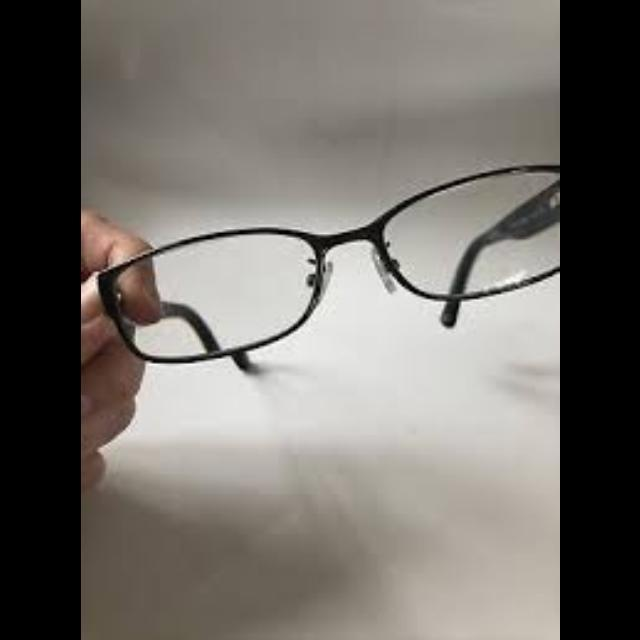glasses: (97, 159, 559, 373)
